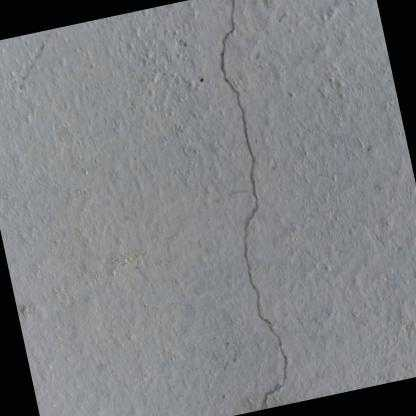crack: (221, 0, 287, 409)
